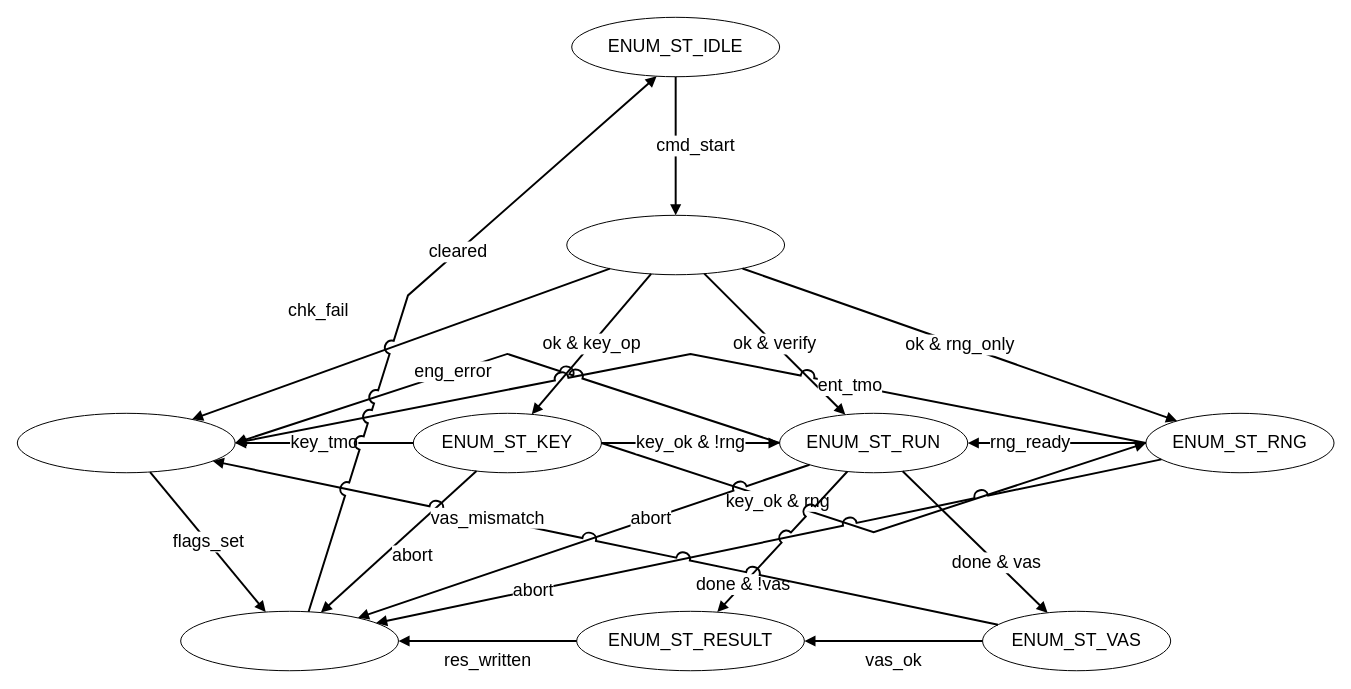
Some shapes in this 1351 by 689 pixel diagram are drawn without their labels. The box of each missing label's shape, as (x1, y1, x2, y2) in pixels:
ENUM_ST_CHECK: (566, 214, 785, 275)
ENUM_ST_CLEAR: (180, 610, 398, 671)
ENUM_ST_ERR: (16, 412, 235, 473)
